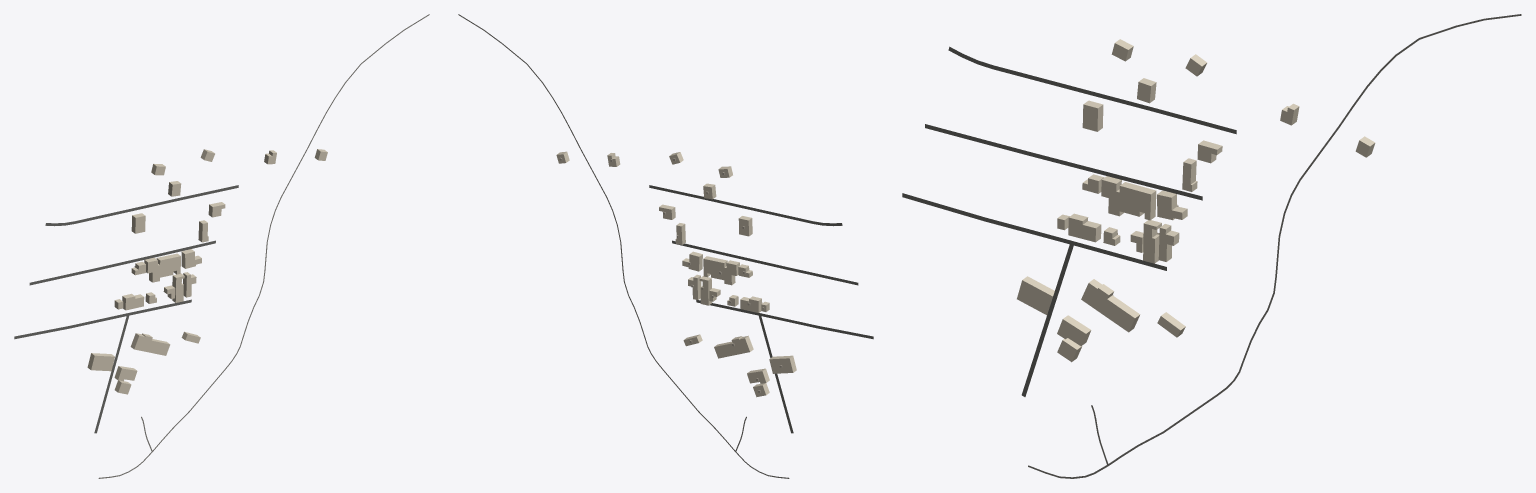
The model's file is aqaba_3507_2958.glb.
3 views of the same model, side by side, from view 1: azimuth 30°, elevation 25°; view 2: azimuth 150°, elevation 25°; view 3: azimuth 330°, elevation 25° (orthographic). The views are drawn at different scales.
Parts seen in each view (by area): view 1: Road .004, Building_.012, Road .003, Road, Road .002, Building_.001, Building_; view 2: Road .004, Building_.012, Road .003, Road, Building_.001, Road .002, Building_; view 3: Road .004, Building_.012, Building_.001, Road .003, Road, Road .002, Building_, Road .001, Building_.006, Building_.009, Building_.011, Building_.003.
Boxes of the visible parts, x1=… form: Road .004: x1=98, y1=14, x2=429, y2=478; Building_.012: x1=144, y1=253, x2=180, y2=282; Road .003: x1=45, y1=185, x2=238, y2=226; Road: x1=29, y1=240, x2=215, y2=285; Road .002: x1=14, y1=299, x2=191, y2=339; Building_.001: x1=130, y1=333, x2=170, y2=355; Building_: x1=87, y1=353, x2=114, y2=371; Road .004: x1=458, y1=14, x2=789, y2=478; Building_.012: x1=703, y1=256, x2=739, y2=285; Road .003: x1=649, y1=185, x2=842, y2=226; Road: x1=672, y1=240, x2=858, y2=285; Building_.001: x1=714, y1=335, x2=753, y2=358; Road .002: x1=696, y1=300, x2=873, y2=339; Building_: x1=769, y1=355, x2=796, y2=373; Road .004: x1=1028, y1=14, x2=1521, y2=478; Building_.012: x1=1101, y1=176, x2=1156, y2=220; Building_.001: x1=1081, y1=279, x2=1140, y2=332; Road .003: x1=948, y1=46, x2=1236, y2=134; Road: x1=925, y1=124, x2=1202, y2=200; Road .002: x1=902, y1=193, x2=1166, y2=270; Building_: x1=1017, y1=276, x2=1054, y2=315; Road .001: x1=1021, y1=242, x2=1074, y2=396; Building_.006: x1=1068, y1=213, x2=1101, y2=242; Building_.009: x1=1143, y1=220, x2=1161, y2=263; Building_.011: x1=1157, y1=190, x2=1187, y2=220; Building_.003: x1=1057, y1=315, x2=1091, y2=345.
Bounding box in the file's own units: 500 × 444 × 8.7.
